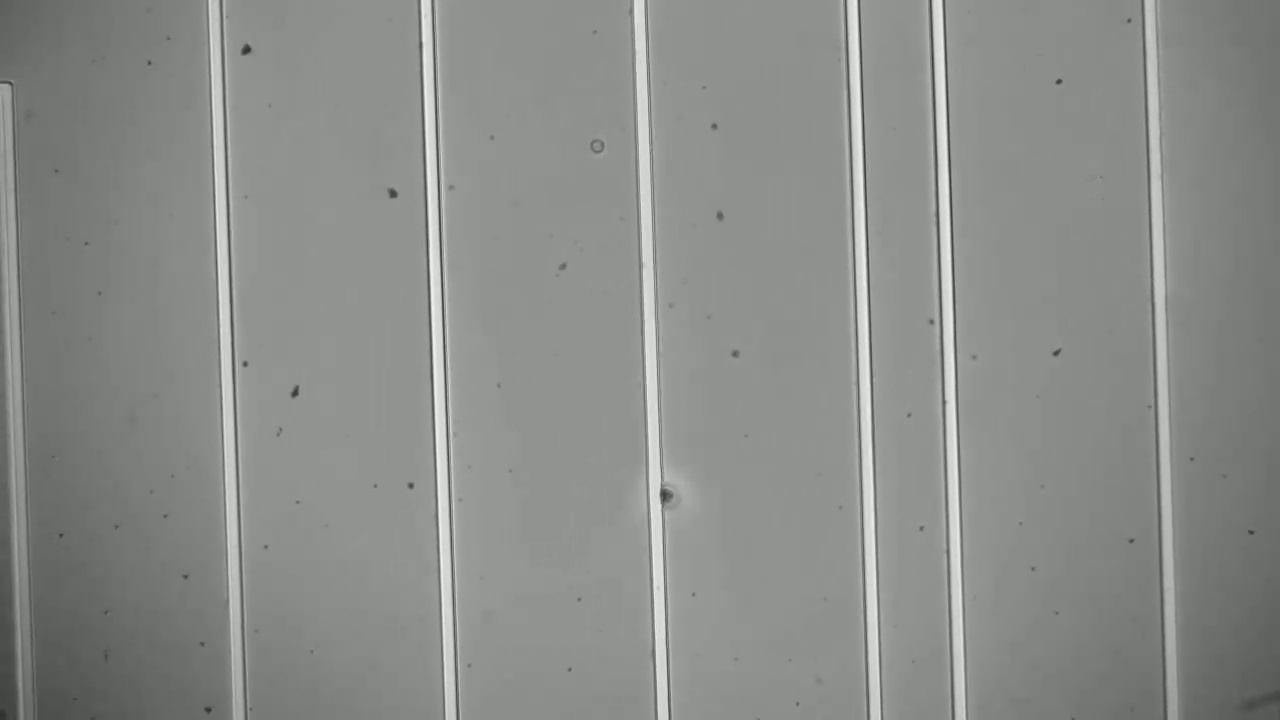stains_enbedded: (644, 478, 684, 515)
